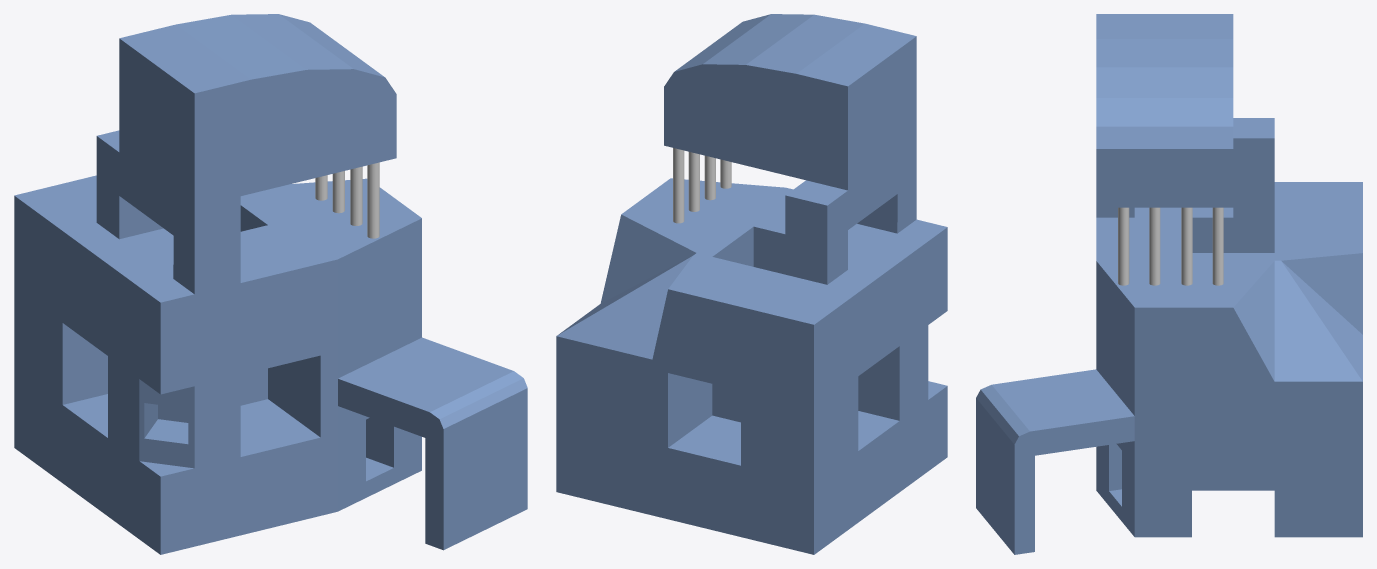
File: field.fbx
3 views of the same model, side by side, from view 1: azimuth 30°, elevation 25°; view 2: azimuth 150°, elevation 25°; view 3: azimuth 270°, elevation 25° (orthographic). The views are drawn at different scales.
Parts seen in each view (by area): view 1: Cube, Cylinder, Cylinder.001; view 2: Cube, Cylinder.002, Cylinder.003, Cylinder.001; view 3: Cube, Cylinder, Cylinder.003, Cylinder.002, Cylinder.001.
Part boxes in pixels (x1,y1,x2,y2): Cube: (14,14,527,554); Cylinder: (367,162,379,238); Cylinder.001: (350,166,362,225); Cube: (556,14,947,554); Cylinder.002: (673,148,684,223); Cylinder.003: (688,152,699,211); Cylinder.001: (704,155,715,200); Cube: (976,14,1362,554); Cylinder: (1118,207,1129,285); Cylinder.003: (1181,207,1192,285); Cylinder.002: (1212,207,1223,285); Cylinder.001: (1149,207,1160,285).
Bounding box in the file's own units: 822 × 1104 × 938.
